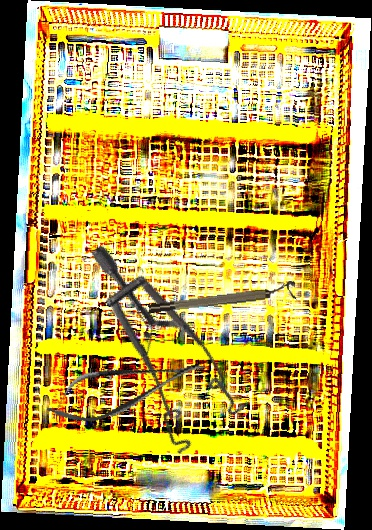Fixation Ring: (147, 280, 297, 316)
Micro Scissor: (40, 342, 213, 434)
Speculum: (24, 240, 283, 475)
